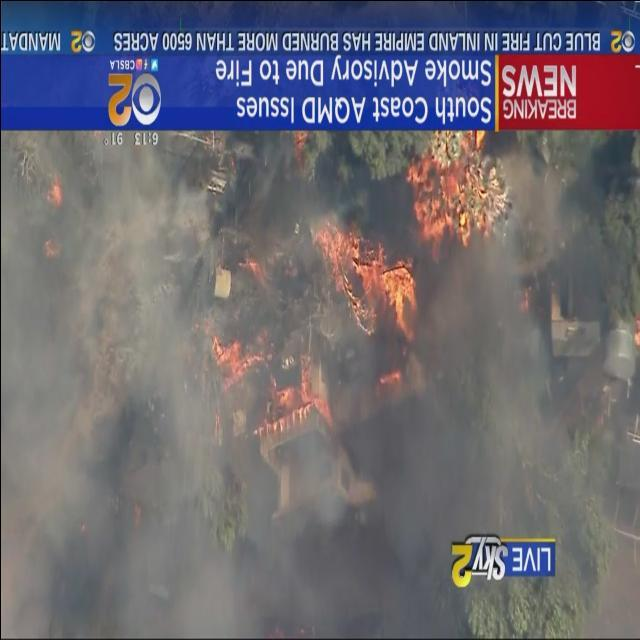Fire: (203, 132, 481, 472)
